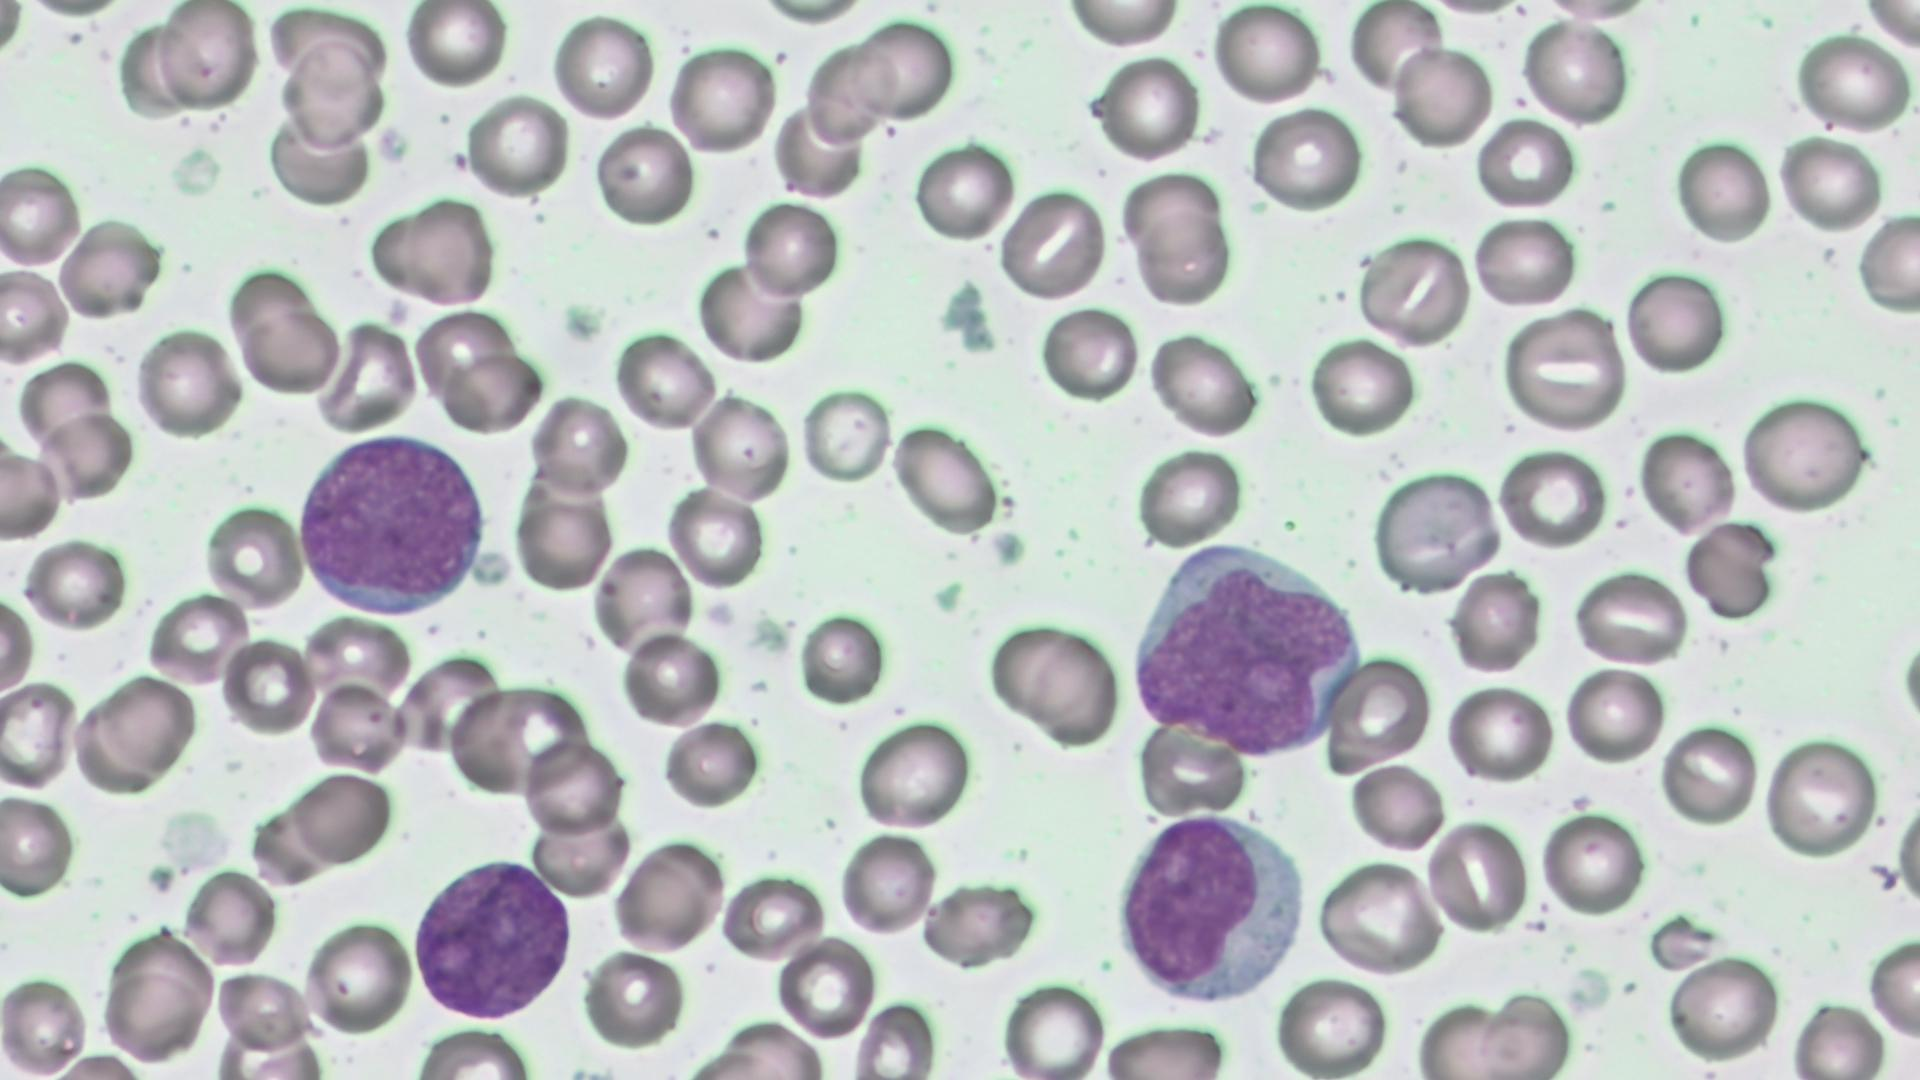RBC: (444, 680, 588, 800), (1370, 466, 1504, 593), (1737, 392, 1869, 518), (1004, 620, 1124, 750), (1503, 307, 1629, 430), (369, 191, 500, 307), (1316, 858, 1444, 975), (1764, 733, 1878, 859), (854, 716, 973, 834), (1662, 950, 1782, 1064), (1323, 651, 1432, 776), (612, 836, 726, 955), (665, 40, 778, 160), (1144, 327, 1262, 441), (304, 916, 415, 1037), (99, 949, 212, 1066), (889, 418, 1001, 536), (1090, 50, 1202, 167), (999, 183, 1108, 303), (1517, 13, 1629, 129), (1247, 103, 1364, 214), (1358, 231, 1469, 346), (1424, 816, 1532, 934), (1210, 0, 1324, 111), (135, 323, 242, 441), (1792, 30, 1912, 135), (549, 8, 657, 124), (687, 389, 794, 506), (1442, 680, 1557, 787), (312, 317, 416, 434), (1570, 567, 1690, 667), (1538, 808, 1646, 919), (611, 324, 719, 435), (1774, 129, 1886, 236), (1273, 975, 1390, 1077), (1390, 40, 1496, 152), (1623, 264, 1728, 377), (911, 137, 1018, 247), (1131, 444, 1244, 548), (55, 214, 164, 321), (1307, 334, 1417, 440), (203, 500, 306, 613), (510, 482, 612, 596), (277, 47, 386, 153), (592, 541, 694, 654), (1492, 446, 1606, 547), (919, 875, 1039, 970), (696, 257, 802, 364), (1636, 425, 1738, 536), (1674, 133, 1773, 247), (464, 93, 568, 201), (1560, 662, 1668, 766), (156, 0, 258, 110), (773, 934, 878, 1040), (580, 947, 686, 1051), (853, 14, 956, 121), (594, 122, 696, 230), (667, 483, 766, 593), (1037, 301, 1141, 404), (531, 390, 630, 498), (1659, 721, 1758, 829), (1132, 722, 1248, 814), (264, 111, 374, 207), (1468, 212, 1578, 308), (741, 197, 842, 301), (1445, 569, 1545, 674), (837, 830, 936, 936), (99, 672, 197, 778), (998, 979, 1105, 1076), (1345, 1, 1447, 101), (620, 629, 722, 729), (519, 738, 623, 836), (20, 536, 127, 631), (802, 38, 896, 146), (1120, 165, 1226, 260), (148, 590, 251, 687), (1474, 115, 1578, 211), (291, 770, 395, 866), (1683, 518, 1782, 618), (720, 868, 826, 960), (236, 301, 342, 393), (219, 634, 313, 737), (402, 2, 509, 92), (184, 865, 274, 970), (798, 385, 890, 487), (438, 349, 545, 436), (1131, 214, 1234, 304), (1348, 760, 1446, 854), (1473, 986, 1574, 1077), (36, 408, 134, 501), (660, 719, 759, 810), (1, 974, 91, 1074), (0, 159, 81, 270), (0, 678, 78, 790), (796, 609, 886, 706), (309, 680, 403, 770), (214, 968, 311, 1053), (1788, 998, 1890, 1077), (1100, 1018, 1234, 1078), (0, 791, 75, 898), (850, 998, 940, 1080), (1854, 209, 1920, 318), (0, 265, 71, 363), (412, 1024, 535, 1079), (1863, 930, 1920, 1044), (1058, 0, 1184, 48), (0, 449, 63, 540), (0, 587, 37, 707), (1860, 0, 1920, 55), (1538, 0, 1652, 26)
WBC: (1120, 533, 1369, 761), (1112, 808, 1314, 1009), (290, 425, 496, 620), (408, 854, 581, 1025)
